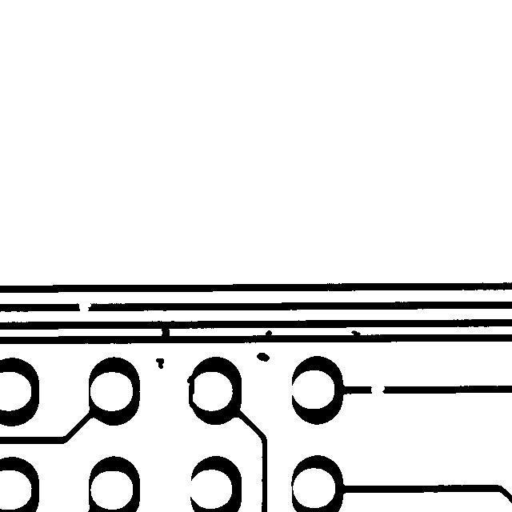copper: (249, 345, 277, 369), (148, 350, 171, 376)
open: (363, 374, 392, 405), (71, 295, 98, 319)
short: (179, 368, 204, 415), (154, 318, 177, 346)
spur: (257, 322, 279, 346), (343, 322, 368, 343)
